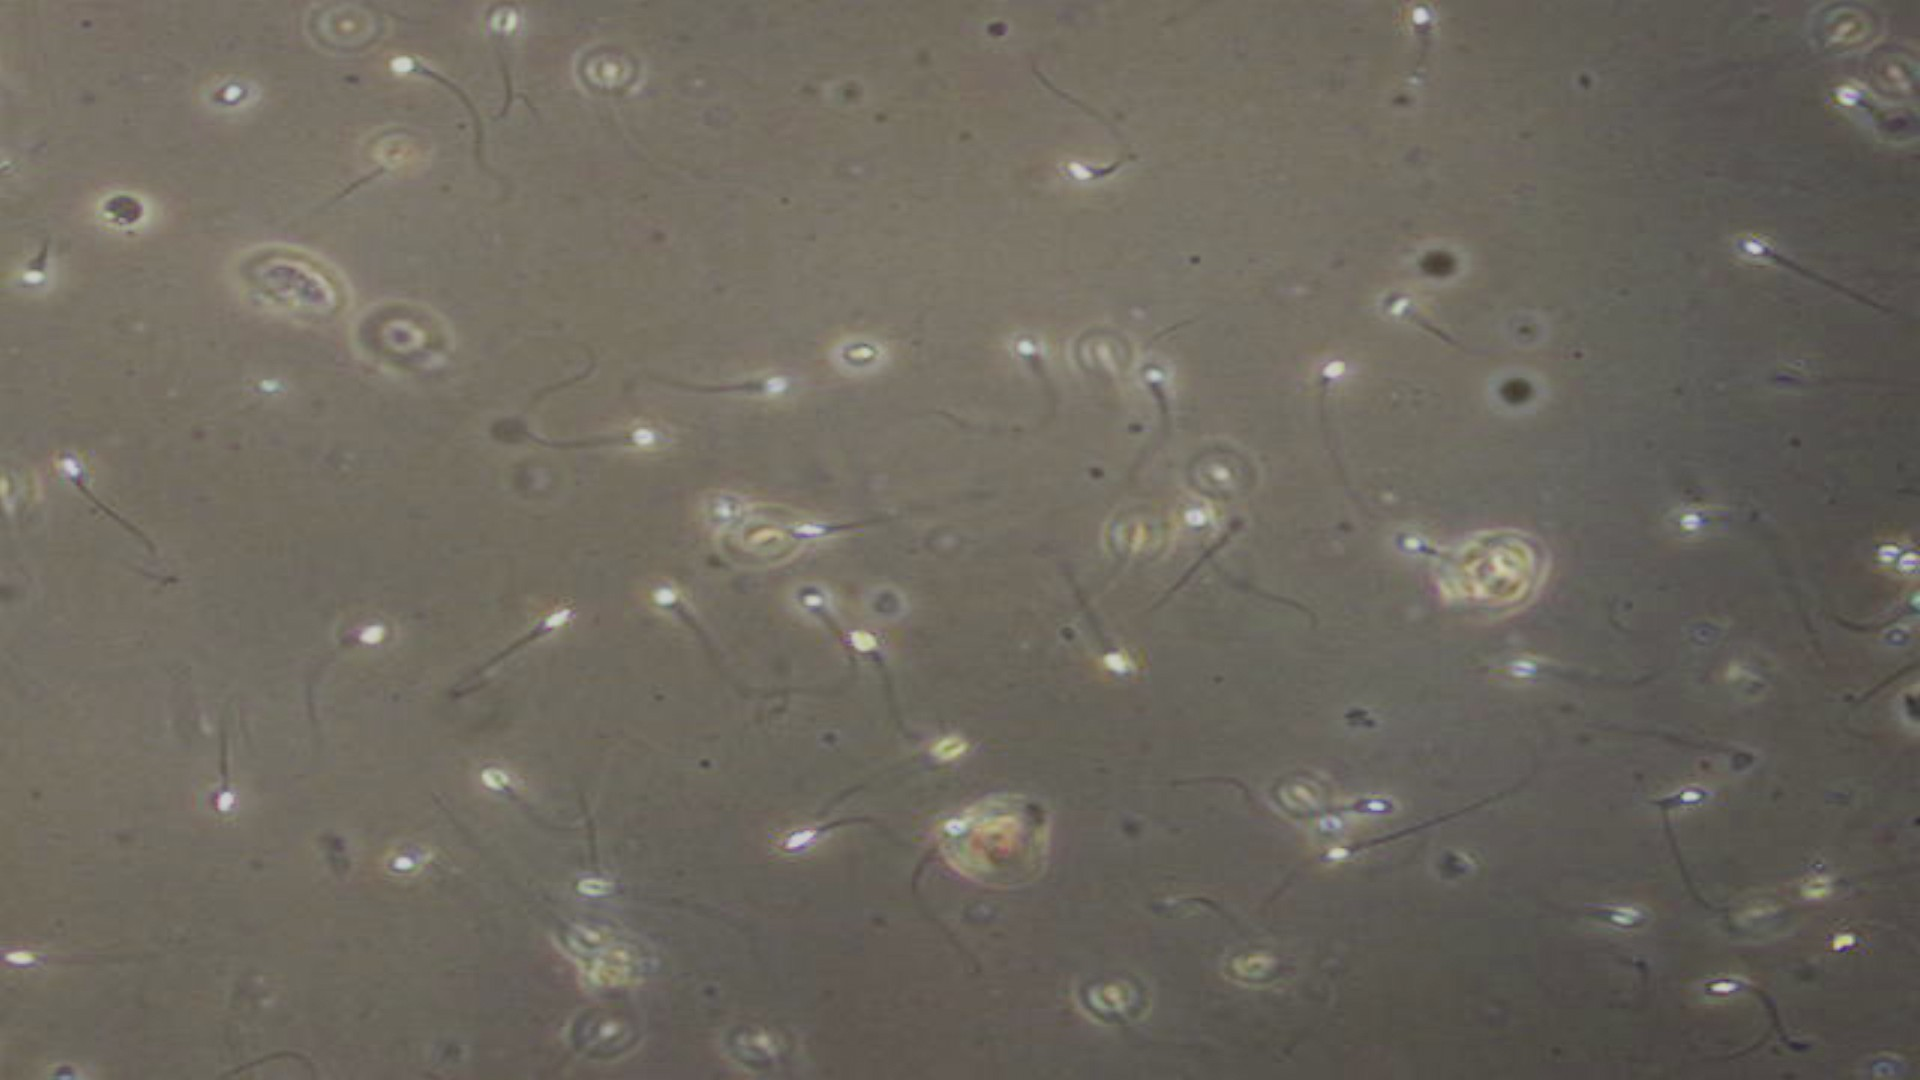sperm: (1385, 286, 1545, 407), (1033, 535, 1153, 698), (382, 50, 522, 179), (54, 456, 195, 578), (1303, 345, 1422, 488), (1725, 229, 1880, 324), (1275, 822, 1457, 895), (620, 363, 807, 427), (1671, 487, 1792, 583), (636, 589, 754, 684), (1697, 971, 1818, 1063), (185, 707, 270, 833), (1050, 109, 1170, 195), (462, 609, 578, 694), (1635, 778, 1734, 877), (1356, 1, 1460, 95), (781, 504, 939, 564), (837, 618, 939, 705), (473, 766, 592, 839), (1131, 356, 1217, 454), (324, 609, 406, 705), (521, 423, 675, 473), (993, 328, 1075, 418), (1534, 882, 1667, 934), (11, 216, 76, 309), (1505, 641, 1602, 703), (1245, 796, 1410, 829), (777, 818, 881, 866), (1381, 531, 1465, 582), (789, 574, 849, 642), (1832, 78, 1876, 120)
